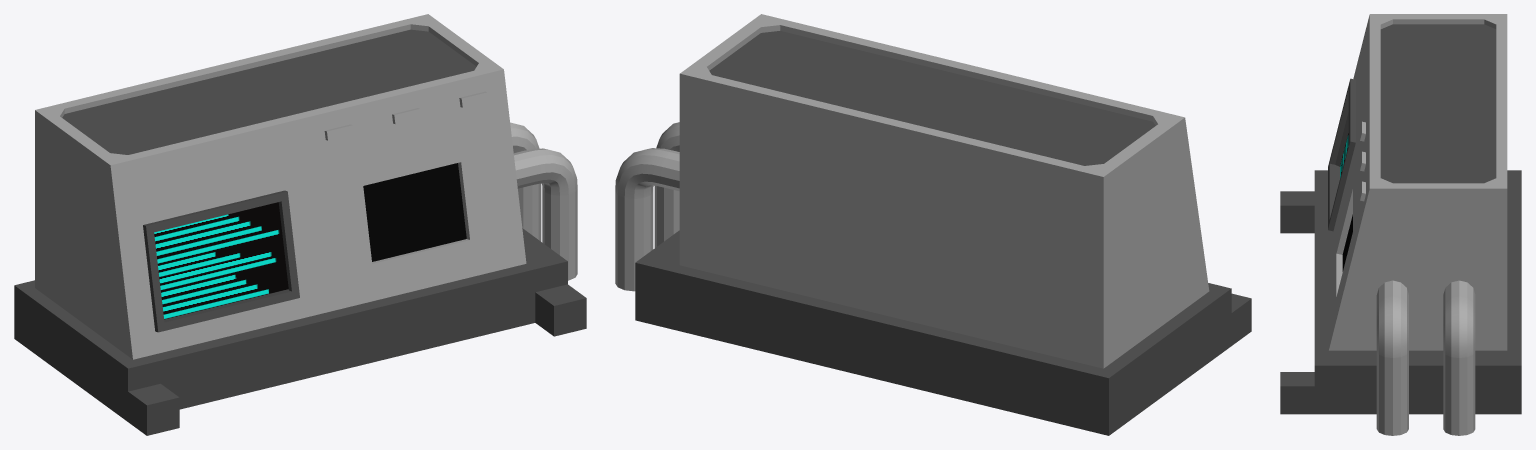
File: machine box.fbx
3 renders of one model, left to right at view 1: azimuth 30°, elevation 25°; view 2: azimuth 150°, elevation 25°; view 3: azimuth 270°, elevation 25°, orthographic. The views are drawn at different scales.
Visible parts, largest first — view 1: machine_box; view 2: machine_box; view 3: machine_box.
Boxes of the visible parts, bbox=[...] form: machine_box: bbox=[14, 14, 586, 435]; machine_box: bbox=[615, 14, 1251, 435]; machine_box: bbox=[1280, 14, 1521, 435].
Bounding box in the file's own units: 2.88 × 1.3 × 1.35.
Materials: 4 (1 with a texture image).
